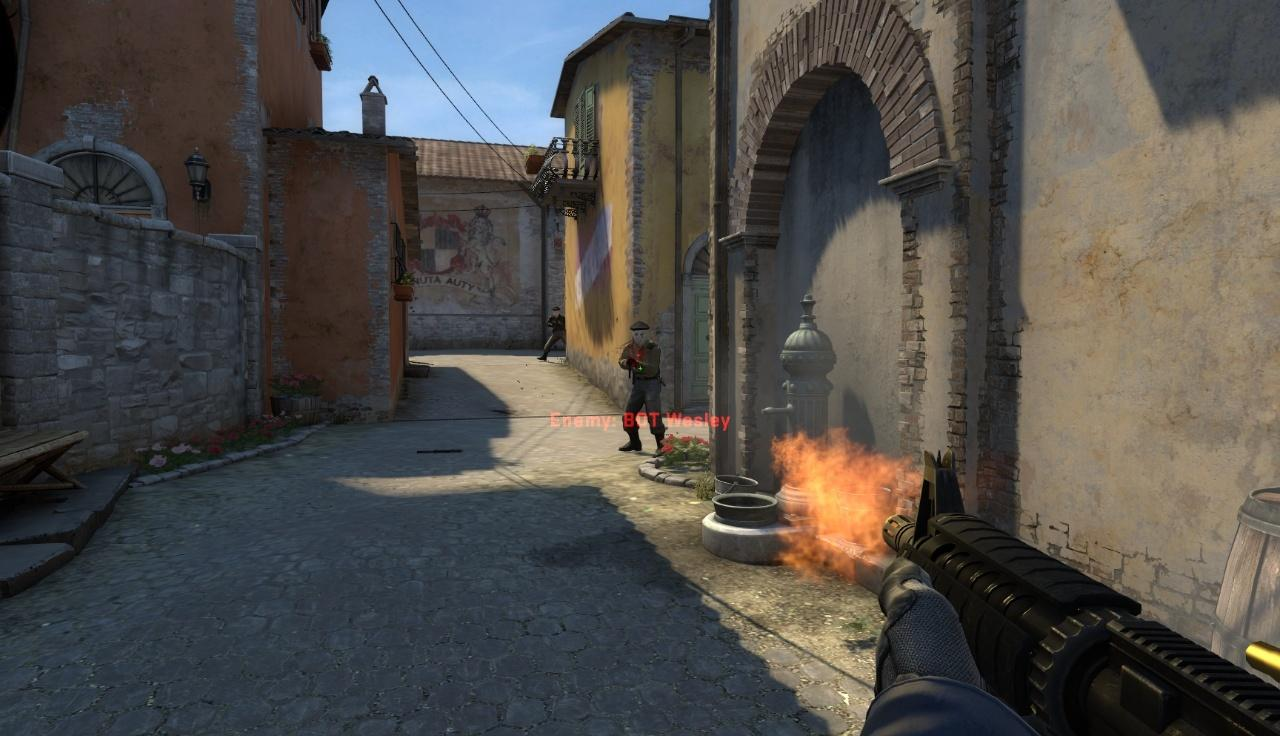rifle: (865, 459, 1276, 732)
tt: (616, 321, 665, 452), (537, 305, 566, 361)
tthead: (630, 321, 649, 344), (552, 306, 561, 317)
